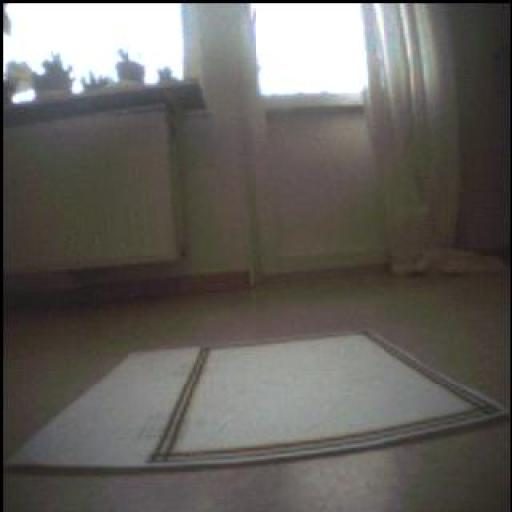Pad: (9, 333, 508, 472)
